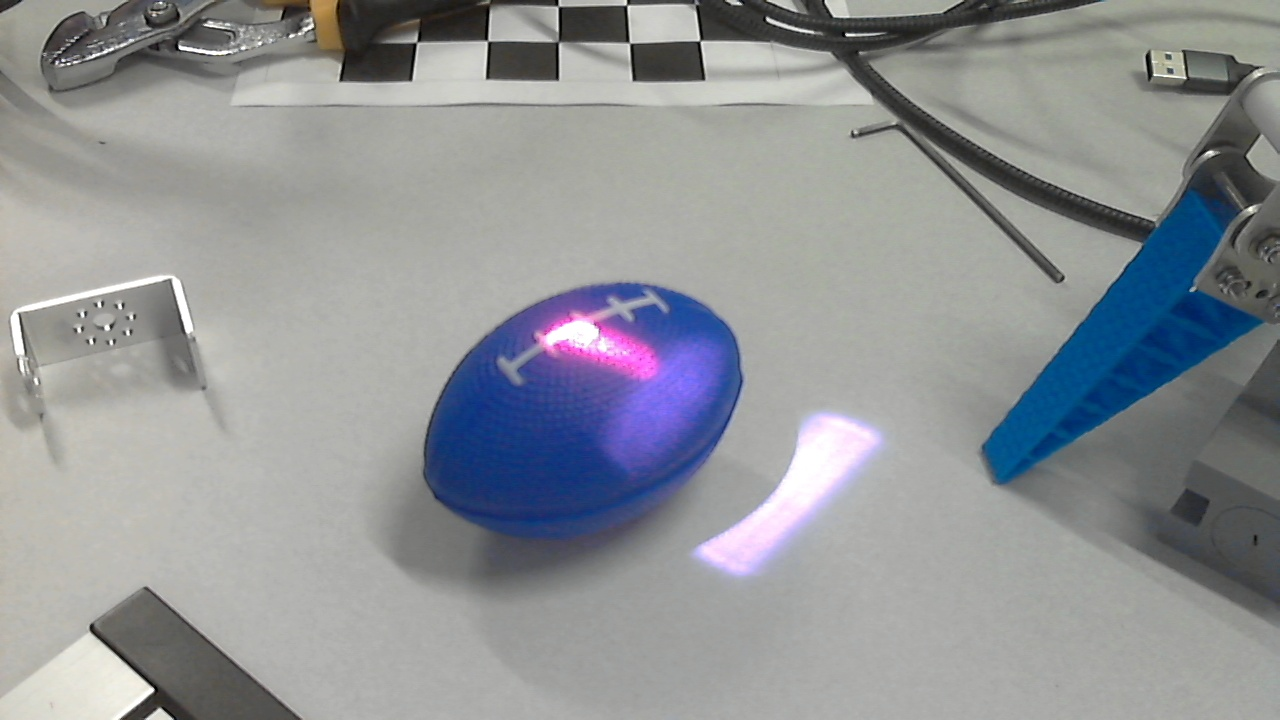Object toy football - Material foam - Color blue - Pdfname VT1ffZoLOnKv: (461, 303, 702, 421)
